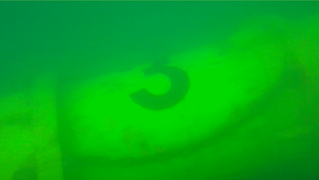3: (119, 56, 190, 111)
pipe: (1, 11, 318, 180)
